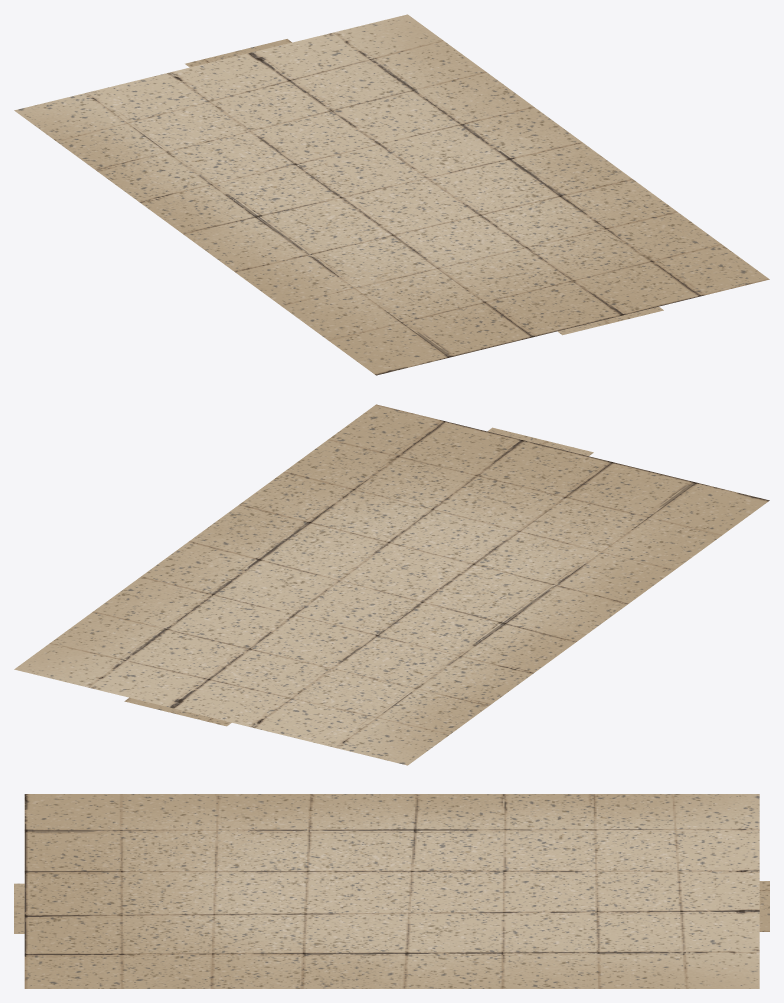
File: sueloRellano.fbx
3 renders of one model, top to bottom at view 1: azimuth 30°, elevation 25°; view 2: azimuth 150°, elevation 25°; view 3: azimuth 270°, elevation 25°, orthographic.
Parts seen in each view (by area): view 1: suelo_rellano; view 2: suelo_rellano; view 3: suelo_rellano.
Part boxes in pixels (x1=…): suelo_rellano: x1=14, y1=14, x2=769, y2=375; suelo_rellano: x1=14, y1=404, x2=769, y2=765; suelo_rellano: x1=14, y1=794, x2=769, y2=988.
Bounding box in the file's own units: 556 × 0.000257 × 911.
Materials: 1 (1 with a texture image).
